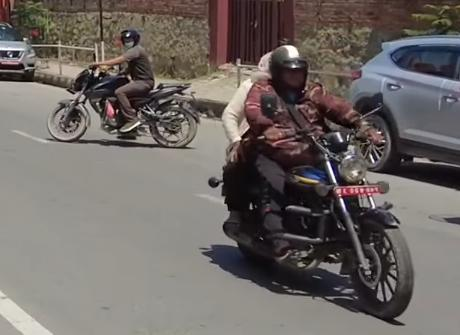bike: (209, 90, 420, 326), (42, 55, 206, 152)
